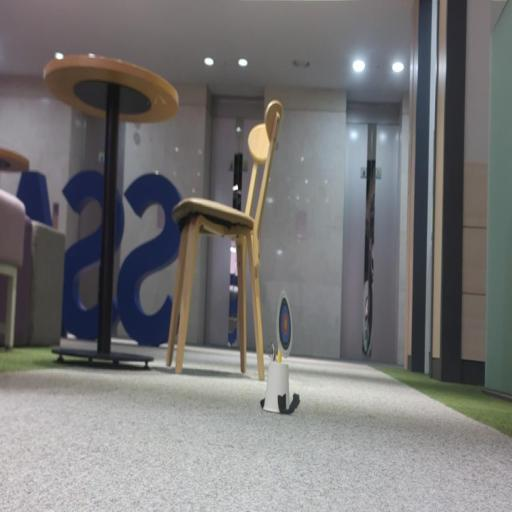target: (276, 291, 292, 356)
